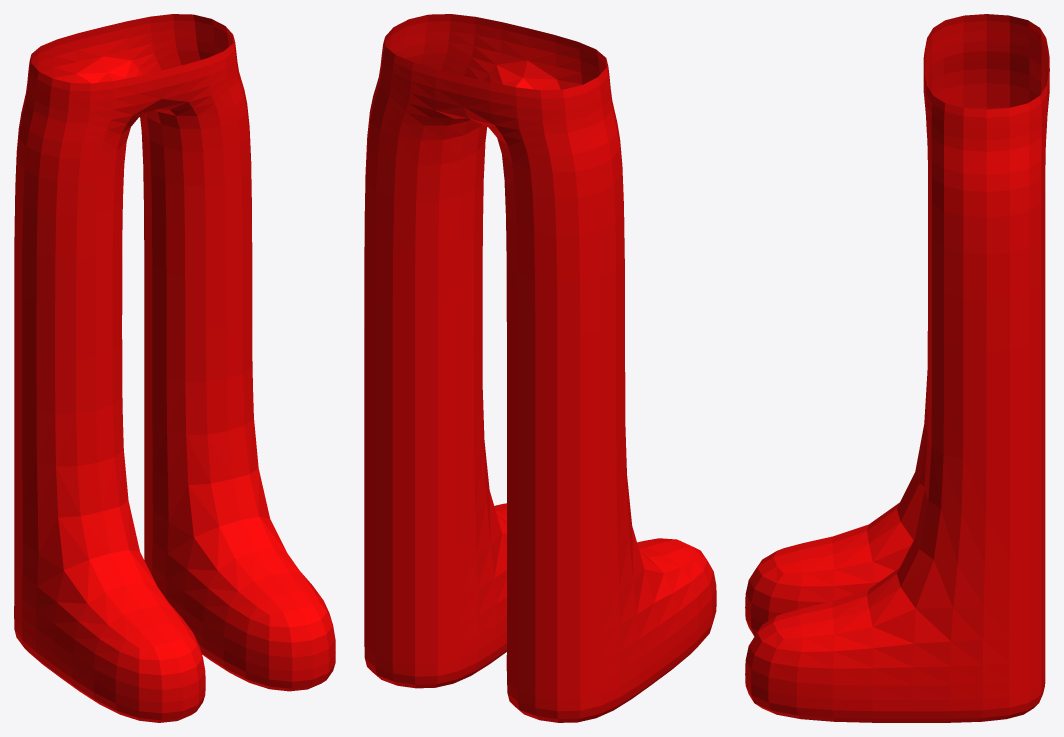
File: SSSPSpamtonRed.obj
3 views of the same model, side by side, from view 1: azimuth 30°, elevation 25°; view 2: azimuth 150°, elevation 25°; view 3: azimuth 270°, elevation 25° (orthographic). The views are drawn at different scales.
Parts seen in each view (by area): view 1: Red_Cube.025; view 2: Red_Cube.025; view 3: Red_Cube.025.
Boxes of the visible parts, x1,y1,x2,y2 form: Red_Cube.025: (14, 14, 335, 722); Red_Cube.025: (364, 14, 716, 722); Red_Cube.025: (745, 14, 1049, 722).
Bounding box in the file's own units: 0.5327 × 1.29 × 0.5816.
